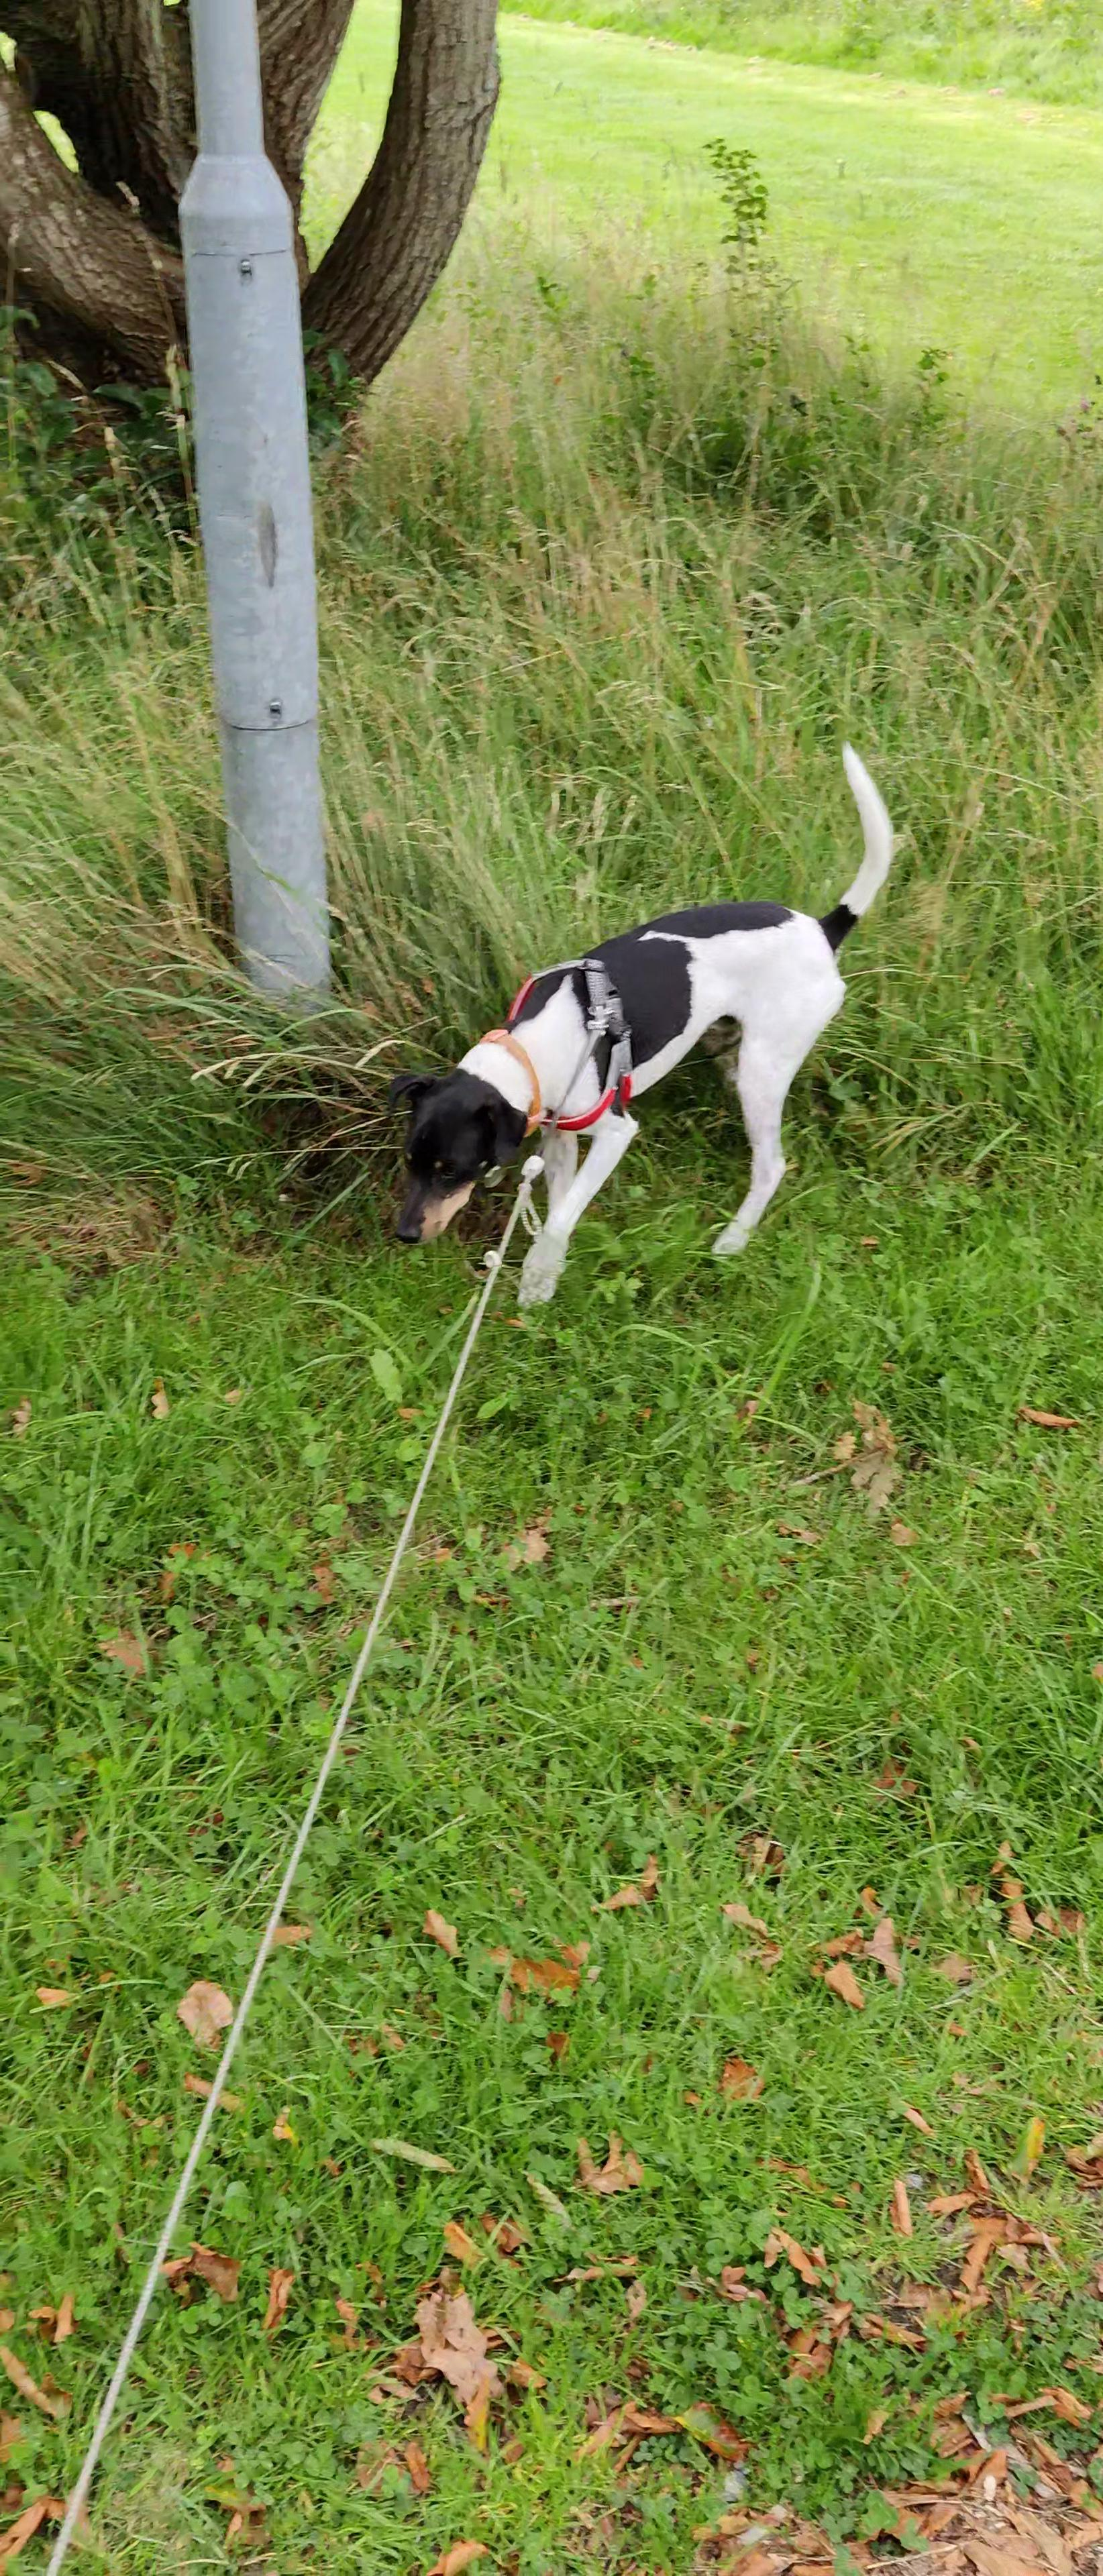Dog: (375, 734, 904, 1318)
